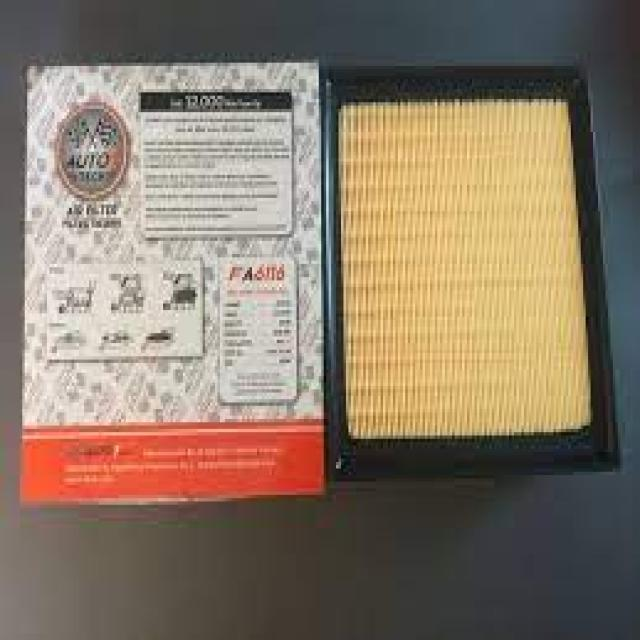air_filter: (322, 57, 624, 476)
